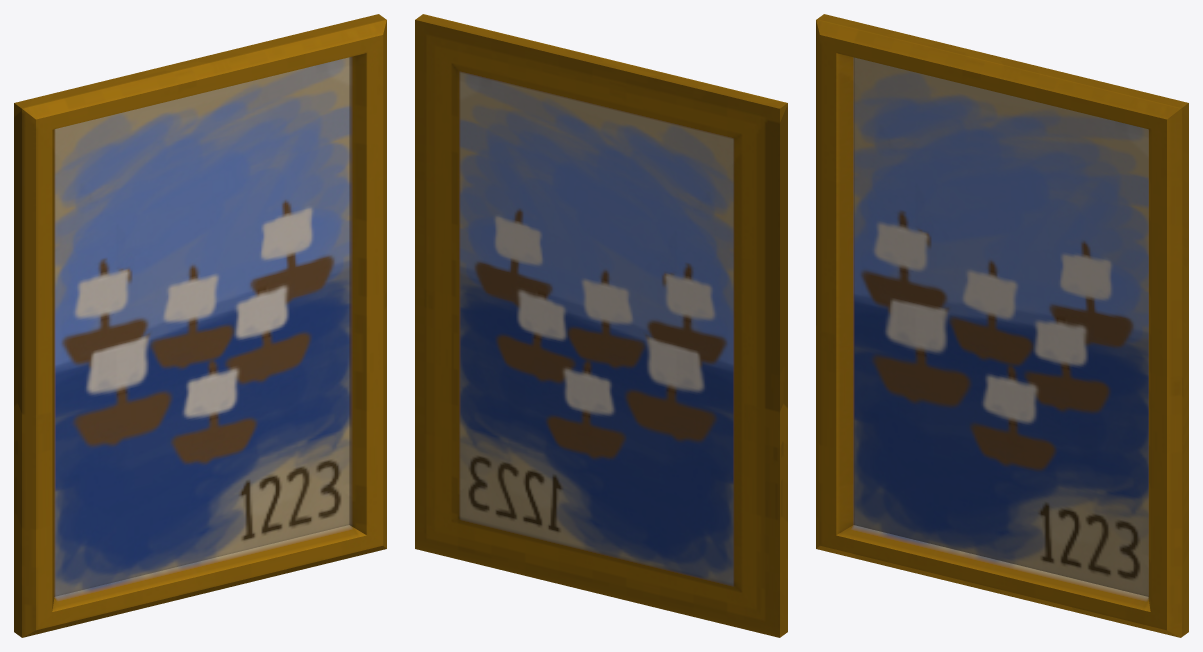
File: painting03_model.glb
3 views of the same model, side by side, from view 1: azimuth 30°, elevation 25°; view 2: azimuth 150°, elevation 25°; view 3: azimuth 330°, elevation 25° (orthographic).
Visible parts, largest first — view 1: picture03_t8; view 2: picture03_t8; view 3: picture03_t8.
Boxes of the visible parts, left/top/right/bottom form: picture03_t8: left=14, top=14, right=386, bottom=637; picture03_t8: left=415, top=14, right=787, bottom=637; picture03_t8: left=816, top=14, right=1188, bottom=637.
Bounding box in the file's own units: 2.43 × 3.38 × 0.1509.
1 material, 1 textured.
